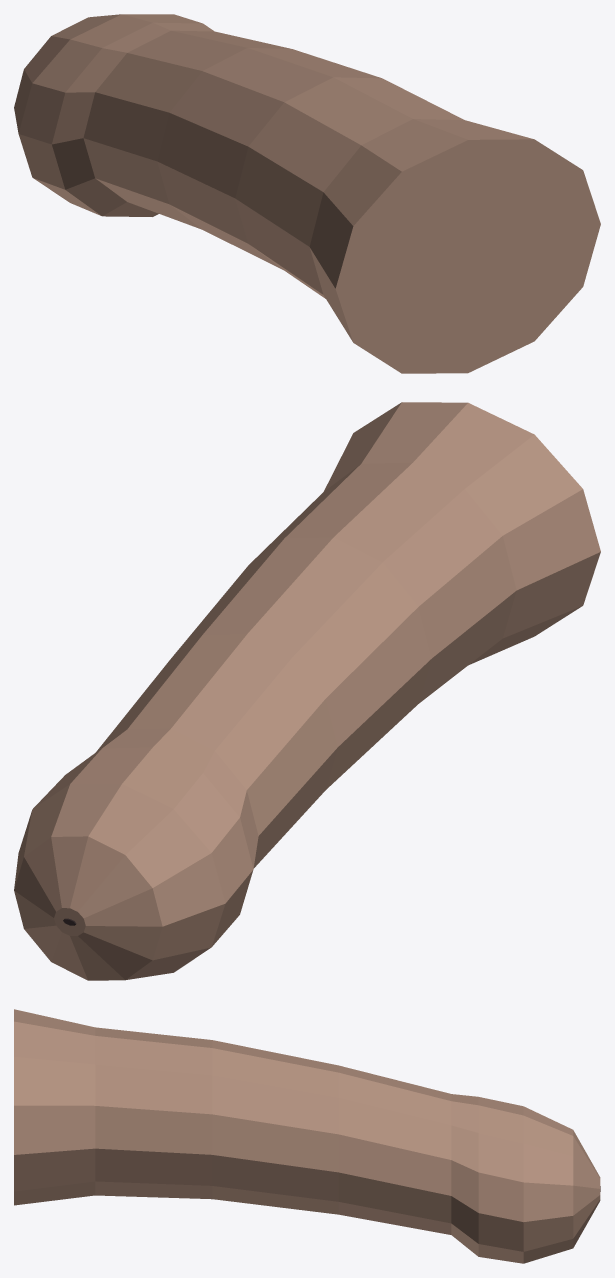
Rendered from Anatomy.fbx.
3 renders of one model, top to bottom at view 1: azimuth 30°, elevation 25°; view 2: azimuth 150°, elevation 25°; view 3: azimuth 270°, elevation 25°, orthographic. The views are drawn at different scales.
Parts seen in each view (by area): view 1: Anatomy_Skin; view 2: Anatomy_Skin; view 3: Anatomy_Skin.
Boxes of the visible parts, x1=… form: Anatomy_Skin: x1=14, y1=14, x2=600, y2=373; Anatomy_Skin: x1=14, y1=402, x2=600, y2=980; Anatomy_Skin: x1=14, y1=1009, x2=600, y2=1263.
Bounding box in the file's own units: 0.05 × 0.057 × 0.1302.
